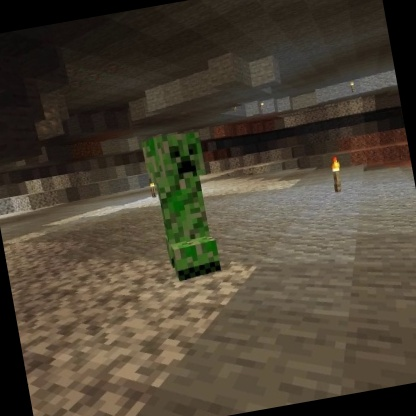creeper: (137, 126, 229, 287)
